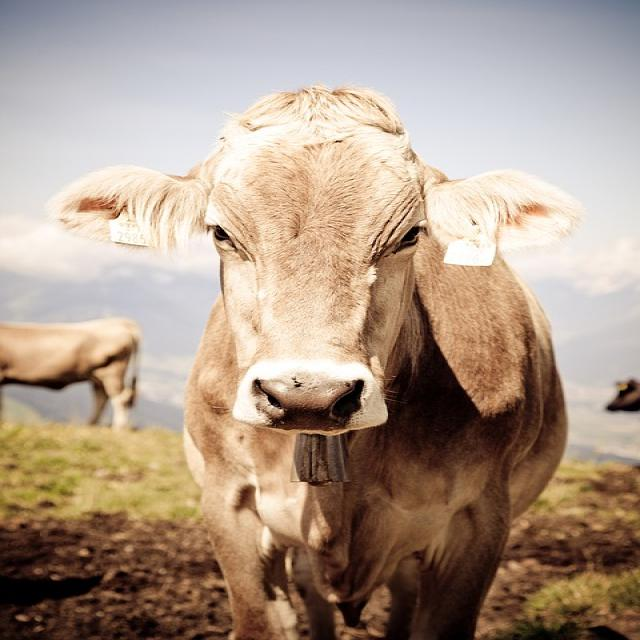Herbivorous: (45, 86, 585, 640), (0, 318, 143, 429)
